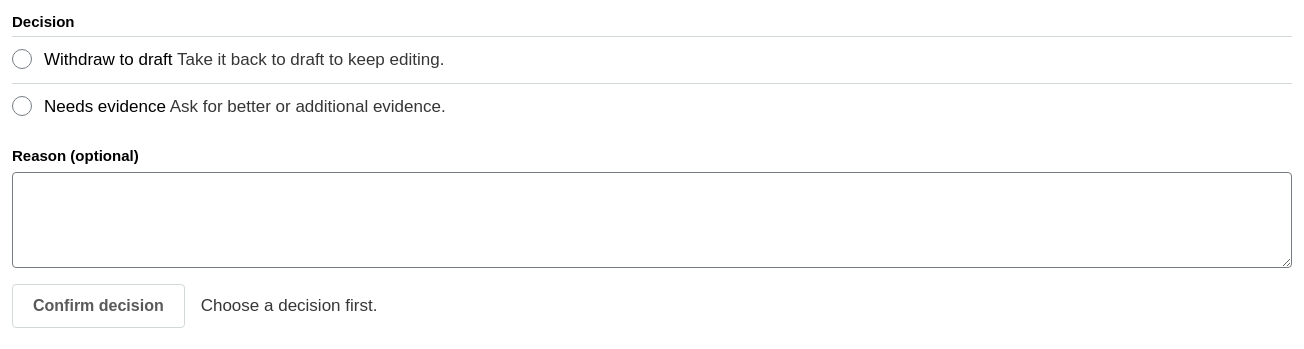
Test: TransitionPanel › pre-selects nothing and blocks confirming until a decision is chosen
Expected: the radio button labelled "Withdraw to draft Take it back to draft to keep editing." is not checked, [12,49,32,69]
Expected: the radio button labelled "Needs evidence Ask for better or additional evidence." is not checked, [12,96,32,116]
Click the button "Confirm decision".
click(98, 306)  # box [12,284,185,328]
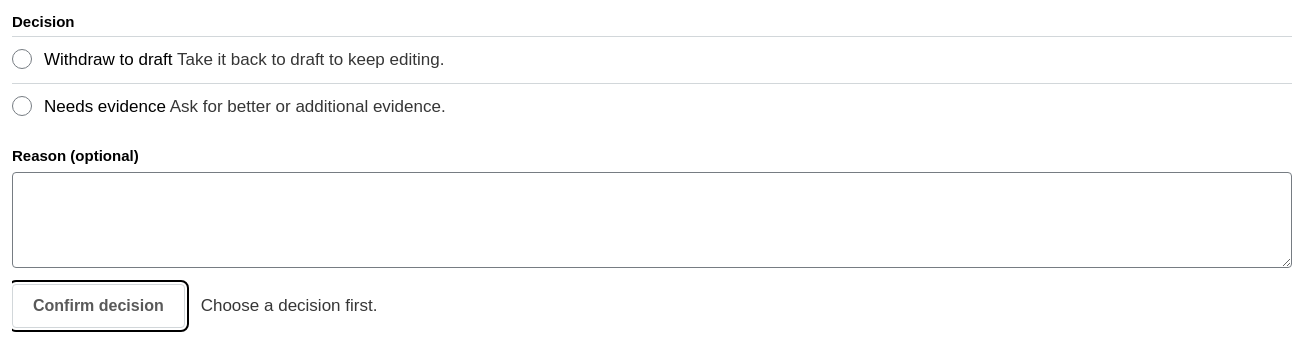
Click the radio button labelled "Needs evidence Ask for better or additional evidence.".
click(22, 106)  # box [12,96,32,116]
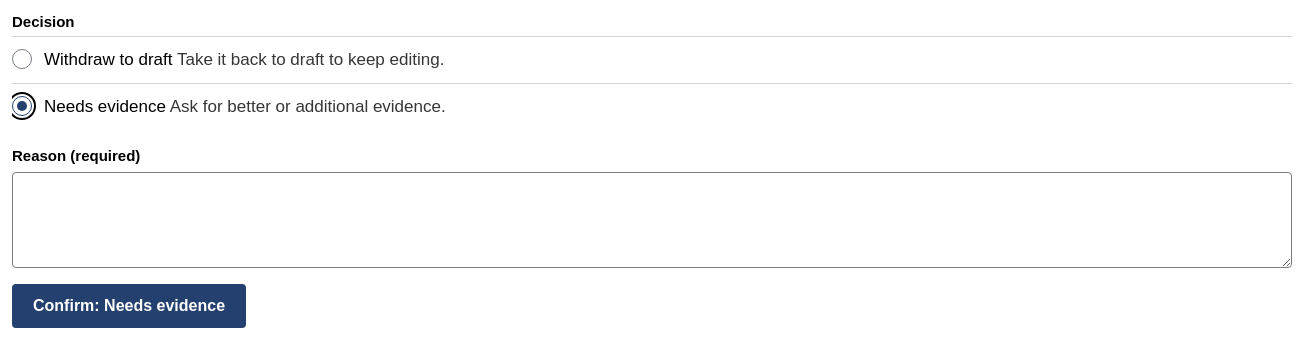
Now the text "Choose a decision first." is gone
